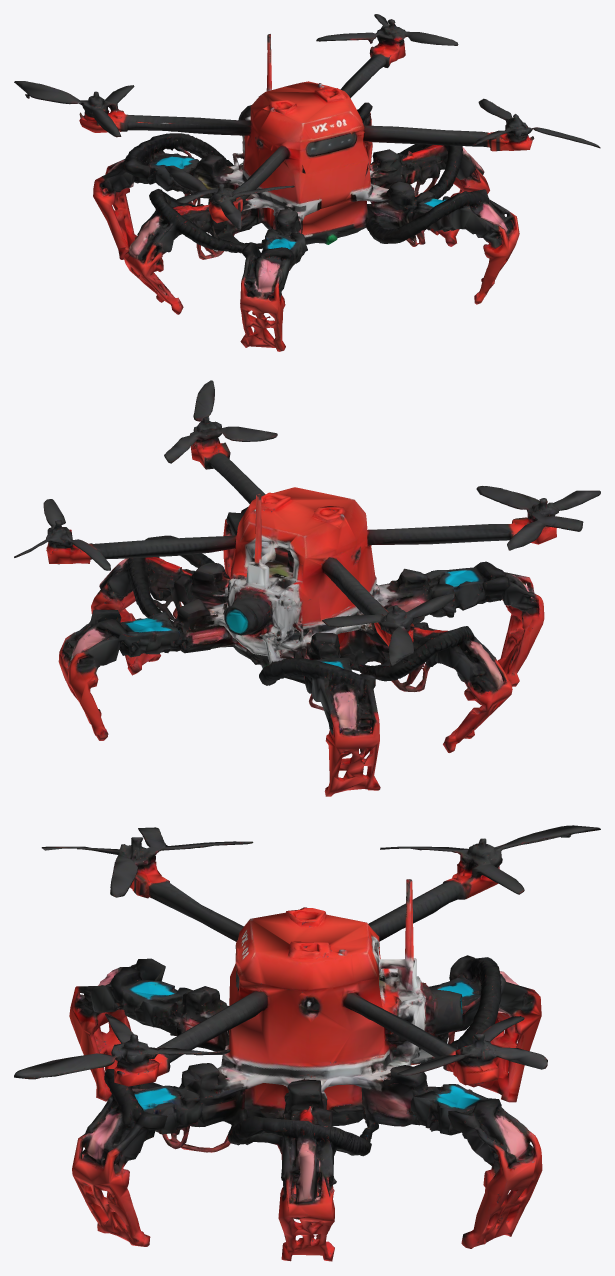
File: drone.glb
3 views of the same model, one above another, from view 1: azimuth 30°, elevation 25°; view 2: azimuth 150°, elevation 25°; view 3: azimuth 270°, elevation 25° (orthographic). The views are drawn at different scales.
Bounding box in the file's own units: 2 × 1.08 × 1.98.
1 material, 1 textured.
